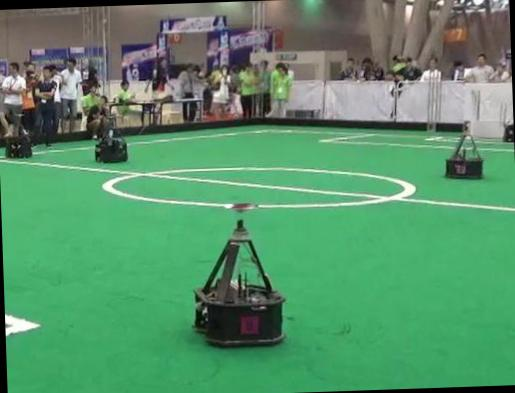robot: (193, 214, 284, 344), (445, 120, 482, 177), (94, 116, 127, 161), (4, 113, 32, 156)
